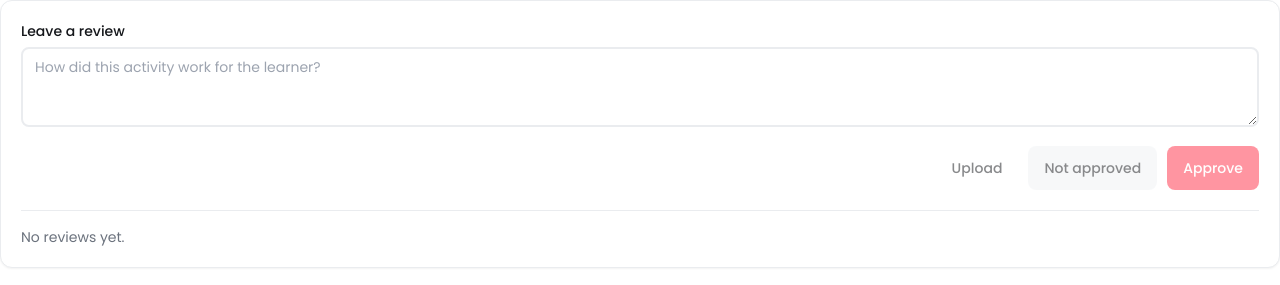
it: UT-4.9 enables Upload when the therapist has written a review
Expected: the button "Upload" is disabled, [936, 146, 1018, 190]
Type "Useful activity." into the text box labelled "Leave a review" at (640, 87), box [21, 47, 1259, 127]
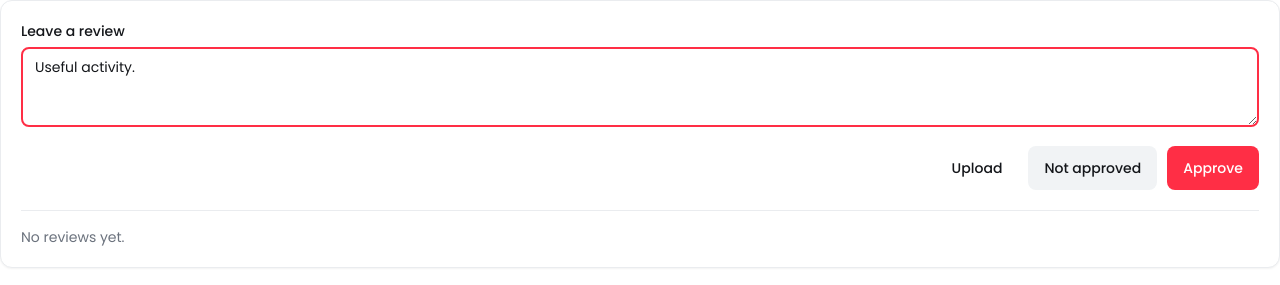
Now the button "Upload" is enabled, box [936, 146, 1018, 190]
